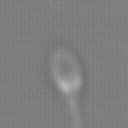normal: (60, 92, 89, 128)
